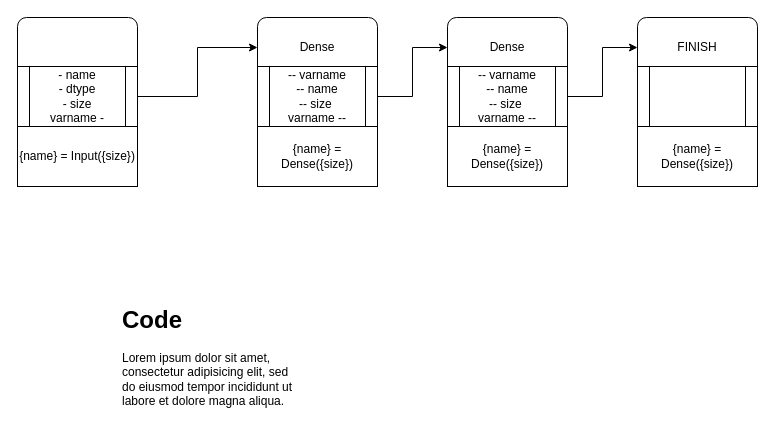
This 775x438 diagram has some shape labels left out. Each missing label, with the box of its shape:
-- model name -- outp num -- [] outputs: (636, 66, 758, 126)
INPUT: (16, 16, 138, 78)
